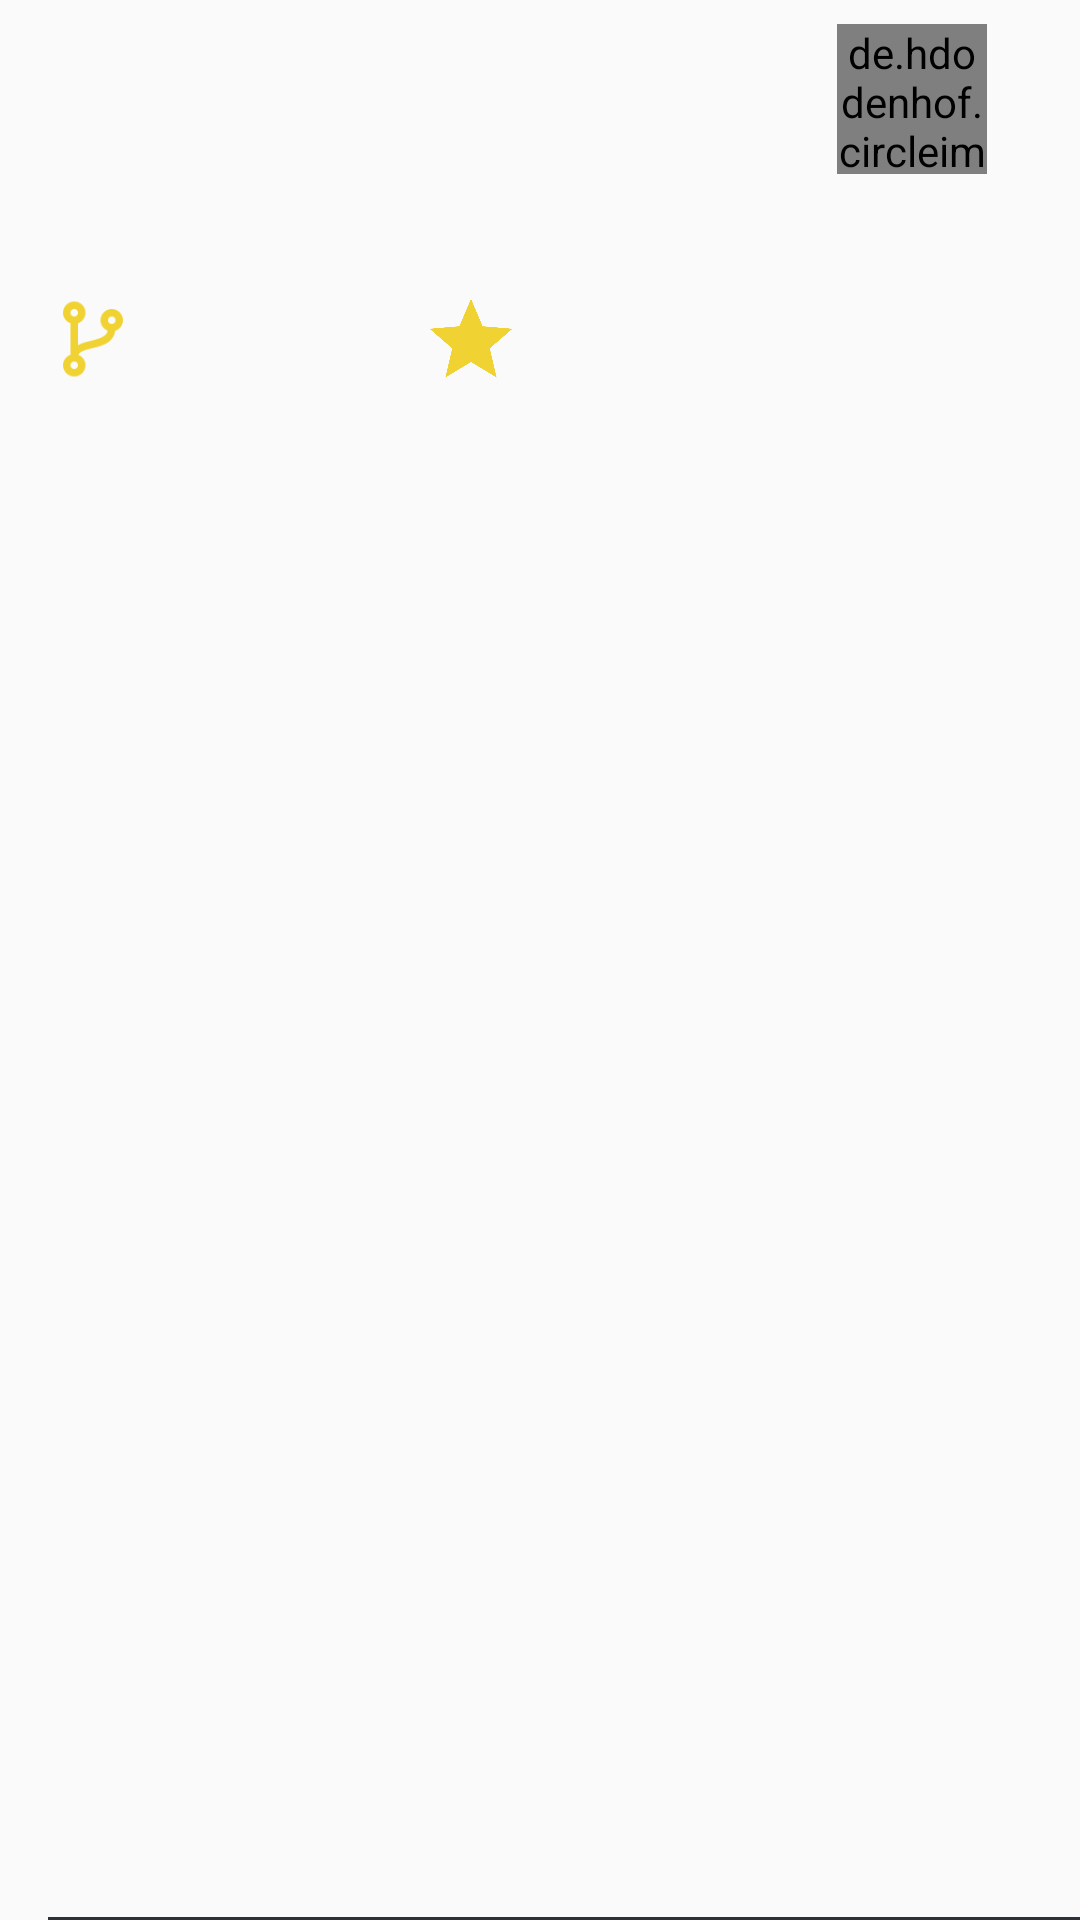

Locate icon controls on the screen. Image size 1080*1920, boxes as [left=x1, top=y1, right=x2, bottom=y2].
fork: [left=63, top=301, right=123, bottom=377]
star: [left=430, top=300, right=512, bottom=378]
